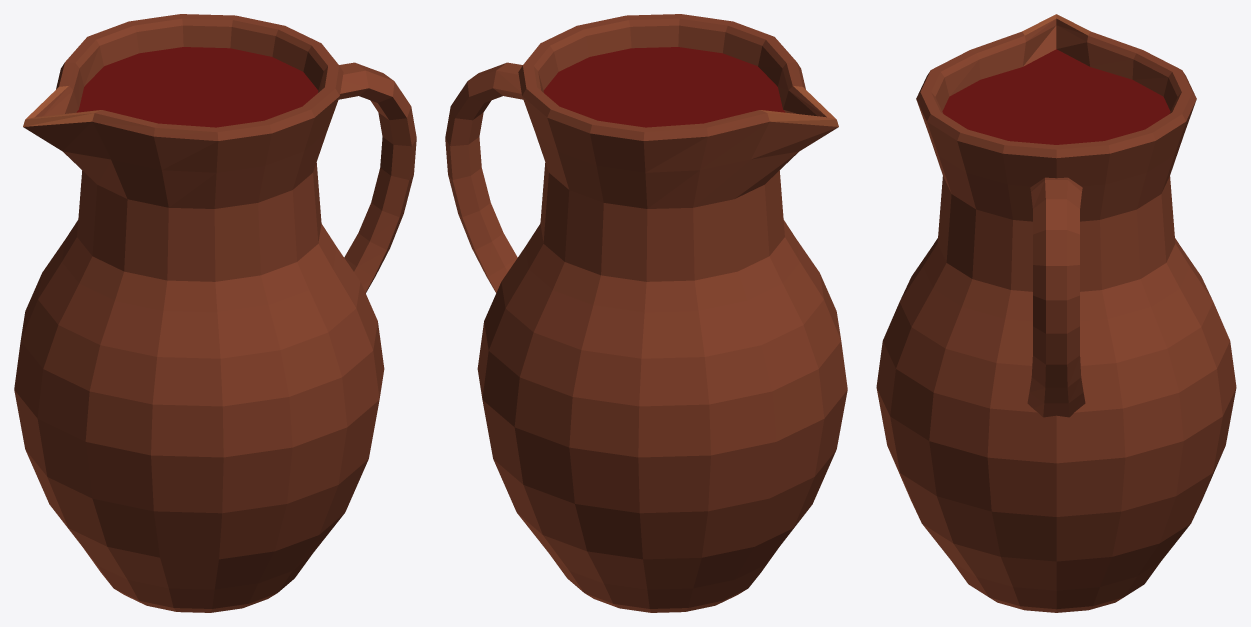
Rendered from clay-wine-jug-b4ebd3.glb.
3 renders of one model, left to right at view 1: azimuth 30°, elevation 25°; view 2: azimuth 150°, elevation 25°; view 3: azimuth 270°, elevation 25°, orthographic. The views are drawn at different scales.
Visible parts, largest first — view 1: jug; view 2: jug; view 3: jug.
Part boxes in pixels (x1,y1,x2,y2): jug: [14, 14, 416, 612]; jug: [445, 14, 847, 612]; jug: [876, 14, 1236, 612].
Bounding box in the file's own units: 0.2018 × 0.2515 × 0.168.
